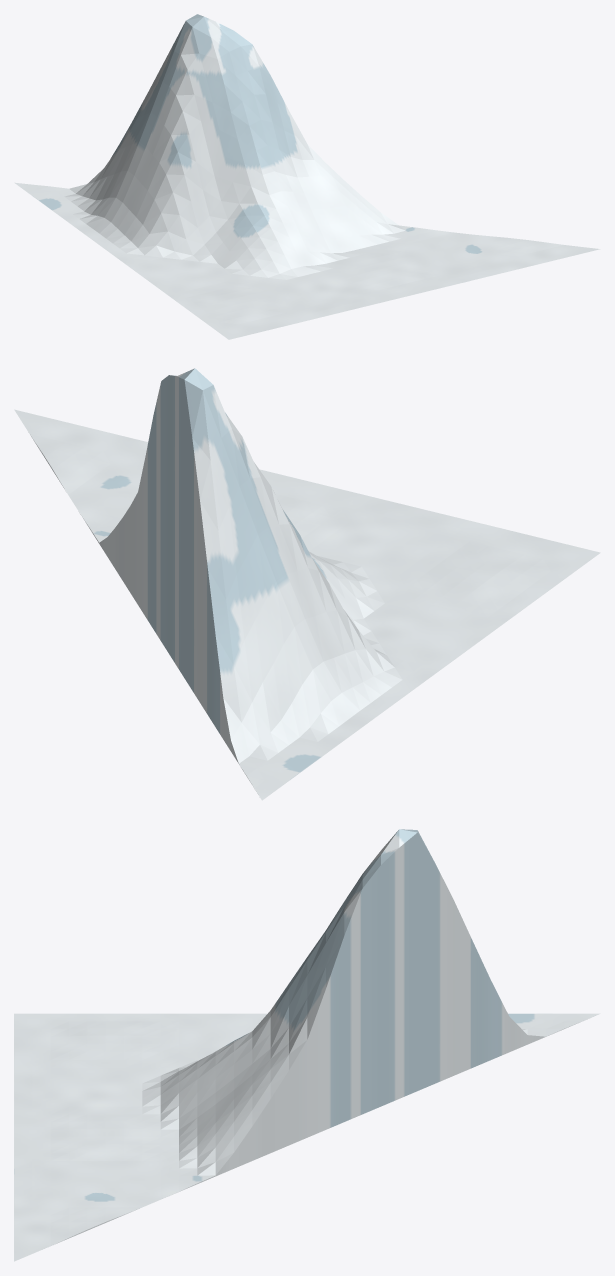
The model's file is Snow_Mountains_01_NW.obj.
The picture shows the model from 3 angles, top to bottom: view 1: azimuth 30°, elevation 25°; view 2: azimuth 150°, elevation 25°; view 3: azimuth 270°, elevation 25°; orthographic projection. The views are drawn at different scales.
Size of the model in its own units: 10 by 4.92 by 10.
1 material, 1 textured.
